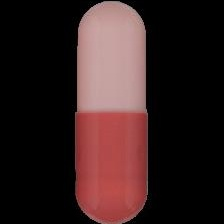60429-182: (0, 0, 224, 224)
